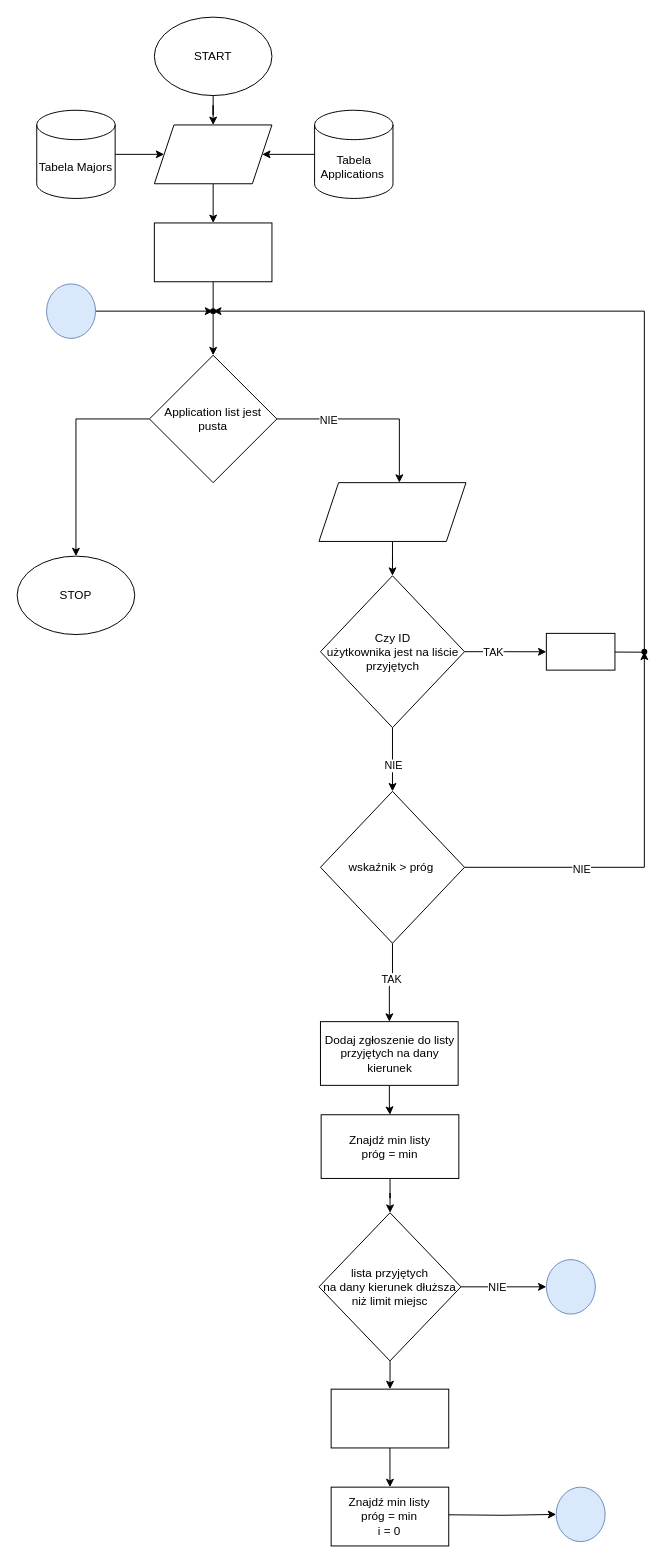
Some shapes in this 671 by 1563 pixel diagram are drawn without their labels. The shapes that lost their labels are listed below. From the top down, each one's centre as x and y in pixels, then its label:
the point at 212,154: Input data
the point at 212,252: Sortowanie zgłoszeń po numerze preferencji
the point at 392,511: Wczytaj zgłoszenie i
the point at 580,651: I += 1
the point at 389,1418: Usuń zgłoszenie o wskaźniku równym min z listy
